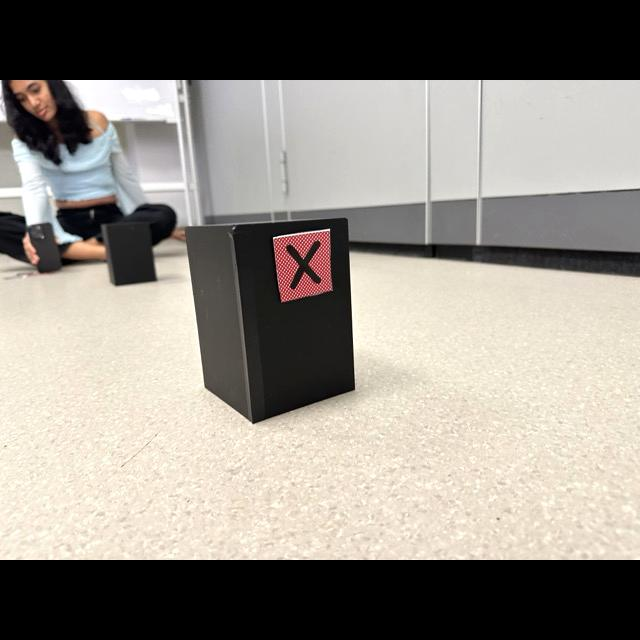X: (286, 241, 322, 289)
